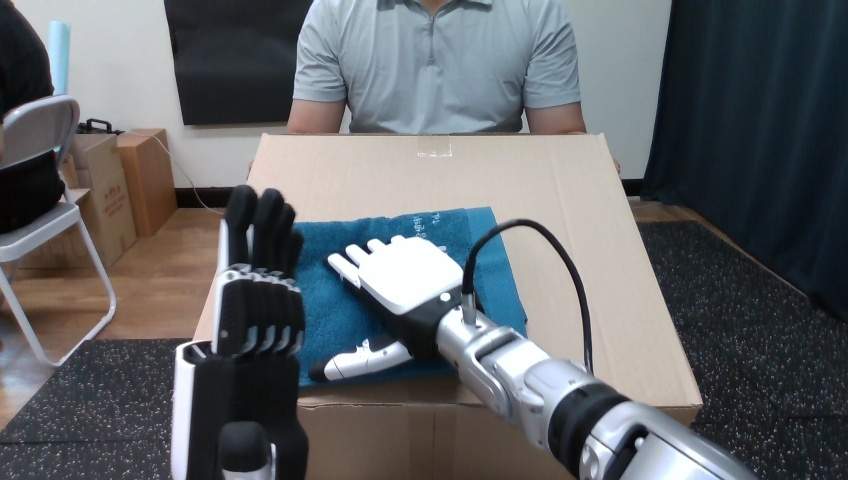left robot hand: (310, 219, 754, 479), (171, 185, 307, 478), (472, 226, 585, 367)
